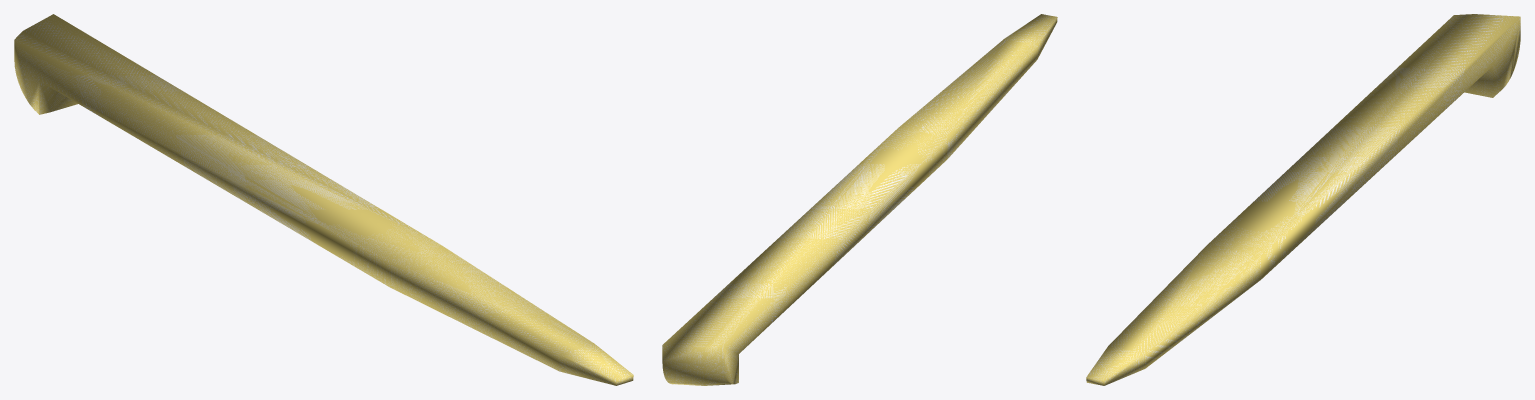
File: original-35.obj
3 views of the same model, side by side, from view 1: azimuth 30°, elevation 25°; view 2: azimuth 150°, elevation 25°; view 3: azimuth 330°, elevation 25° (orthographic). The views are drawn at different scales.
Visible parts, largest first — view 1: TOOTHPICK1/TOOTHPICK/mesh31/mesh31-geometry#mesh31-geometry; view 2: TOOTHPICK1/TOOTHPICK/mesh31/mesh31-geometry#mesh31-geometry; view 3: TOOTHPICK1/TOOTHPICK/mesh31/mesh31-geometry#mesh31-geometry.
Boxes of the visible parts, left/top/right/bottom form: TOOTHPICK1/TOOTHPICK/mesh31/mesh31-geometry#mesh31-geometry: left=14, top=14, right=633, bottom=385; TOOTHPICK1/TOOTHPICK/mesh31/mesh31-geometry#mesh31-geometry: left=662, top=14, right=1057, bottom=385; TOOTHPICK1/TOOTHPICK/mesh31/mesh31-geometry#mesh31-geometry: left=1086, top=14, right=1520, bottom=385.
Bounding box in the file's own units: 0.0756 × 0.0354 × 0.5462.
